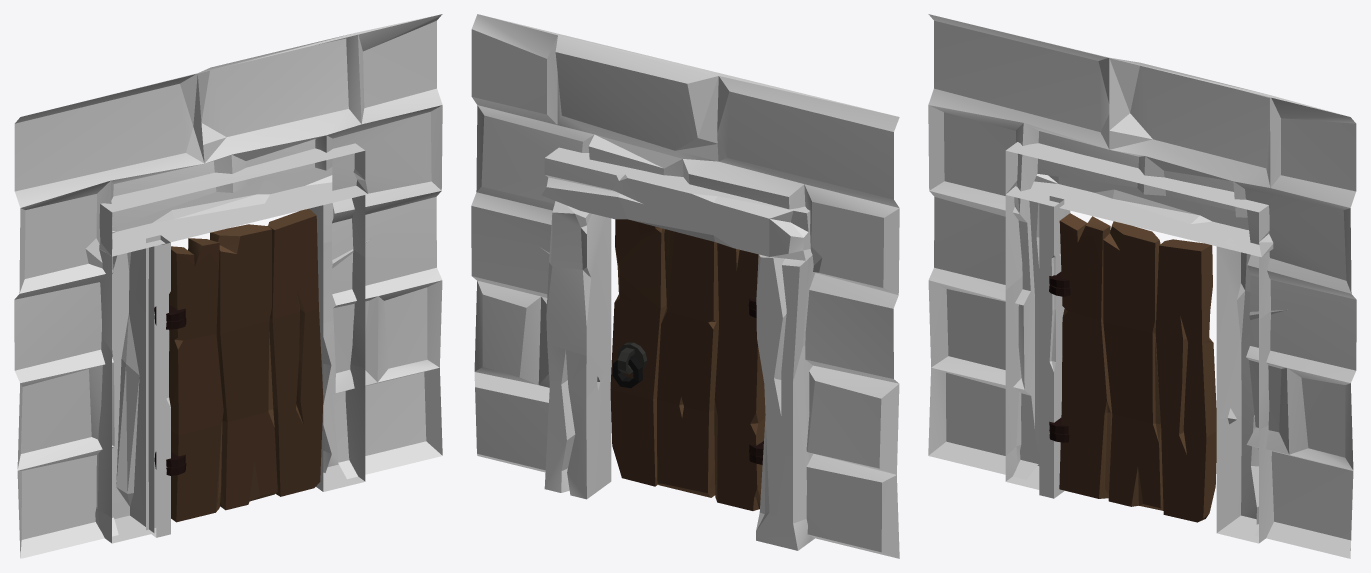
The model's file is NGF_Env_Wooden_doorway_03.fbx.
The picture shows the model from 3 angles, left to right: view 1: azimuth 30°, elevation 25°; view 2: azimuth 150°, elevation 25°; view 3: azimuth 330°, elevation 25°; orthographic projection.
Parts seen in each view (by area): view 1: NGF_Env_Wooden_doorway_03, NGF_Env_Door_12, NGF_Env_Door_attachment_06; view 2: NGF_Env_Wooden_doorway_03, NGF_Env_Door_12, NGF_Env_Handle_attachment_12, NGF_Env_Handle_12; view 3: NGF_Env_Wooden_doorway_03, NGF_Env_Door_12, NGF_Env_Door_attachment_06.
Boxes of the visible parts, <box> form: NGF_Env_Wooden_doorway_03: <box>14,14,442,558</box>; NGF_Env_Door_12: <box>169,208,323,522</box>; NGF_Env_Door_attachment_06: <box>146,235,170,537</box>; NGF_Env_Wooden_doorway_03: <box>471,14,899,558</box>; NGF_Env_Door_12: <box>610,219,765,510</box>; NGF_Env_Handle_attachment_12: <box>617,342,647,374</box>; NGF_Env_Handle_12: <box>612,356,642,388</box>; NGF_Env_Wooden_doorway_03: <box>928,14,1356,558</box>; NGF_Env_Door_12: <box>1059,213,1216,522</box>; NGF_Env_Door_attachment_06: <box>1039,196,1064,498</box>.
Size of the model in its own units: 4 by 4 by 0.5616.
Materials: 1 (1 with a texture image).
